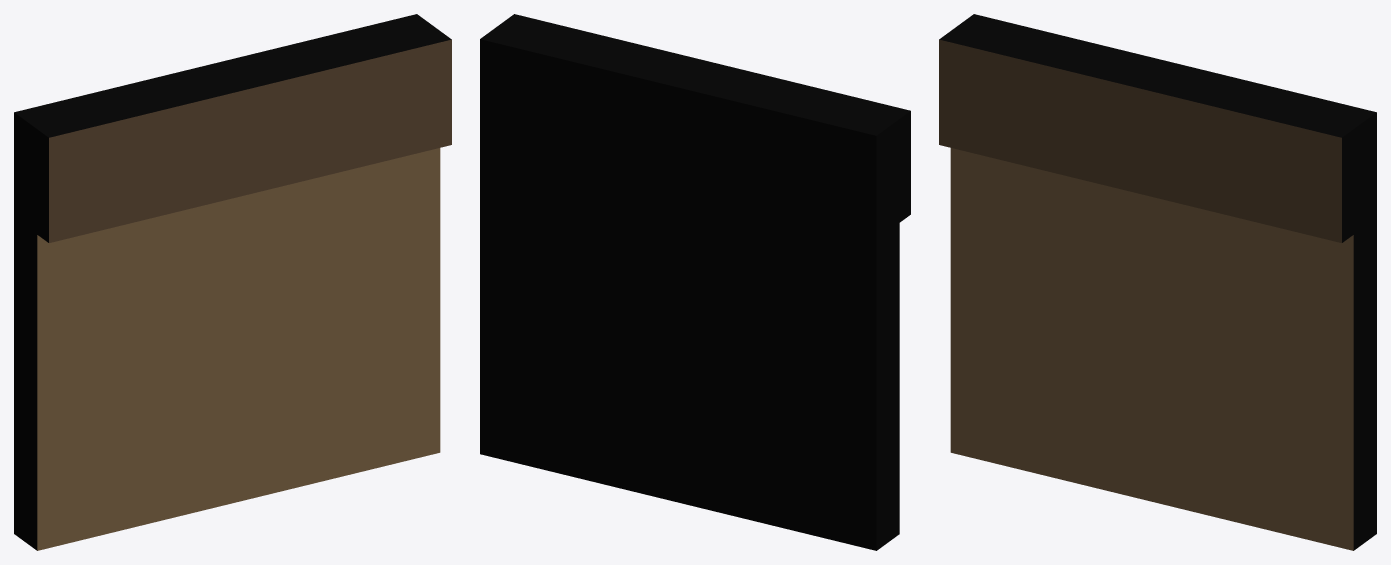
File: M_Wall_Medium_BorderTop.fbx
3 renders of one model, left to right at view 1: azimuth 30°, elevation 25°; view 2: azimuth 150°, elevation 25°; view 3: azimuth 330°, elevation 25°, orthographic.
Parts seen in each view (by area): view 1: M_Wall_Medium_BorderTop; view 2: M_Wall_Medium_BorderTop; view 3: M_Wall_Medium_BorderTop.
Boxes of the visible parts, box(x1,y1,x2,y2) form: M_Wall_Medium_BorderTop: box(14, 14, 451, 550); M_Wall_Medium_BorderTop: box(480, 14, 910, 550); M_Wall_Medium_BorderTop: box(939, 14, 1376, 550).
Bounding box in the file's own units: 200 × 200 × 30.
